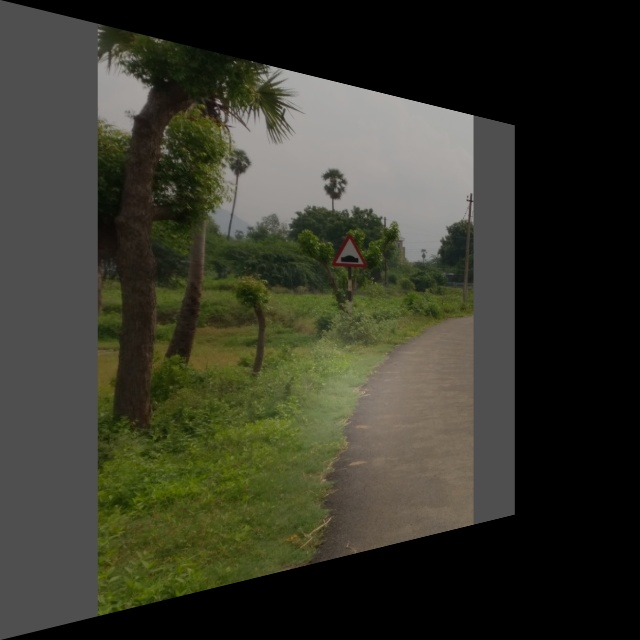Hump_or_Rough_Road: (328, 229, 368, 271)
